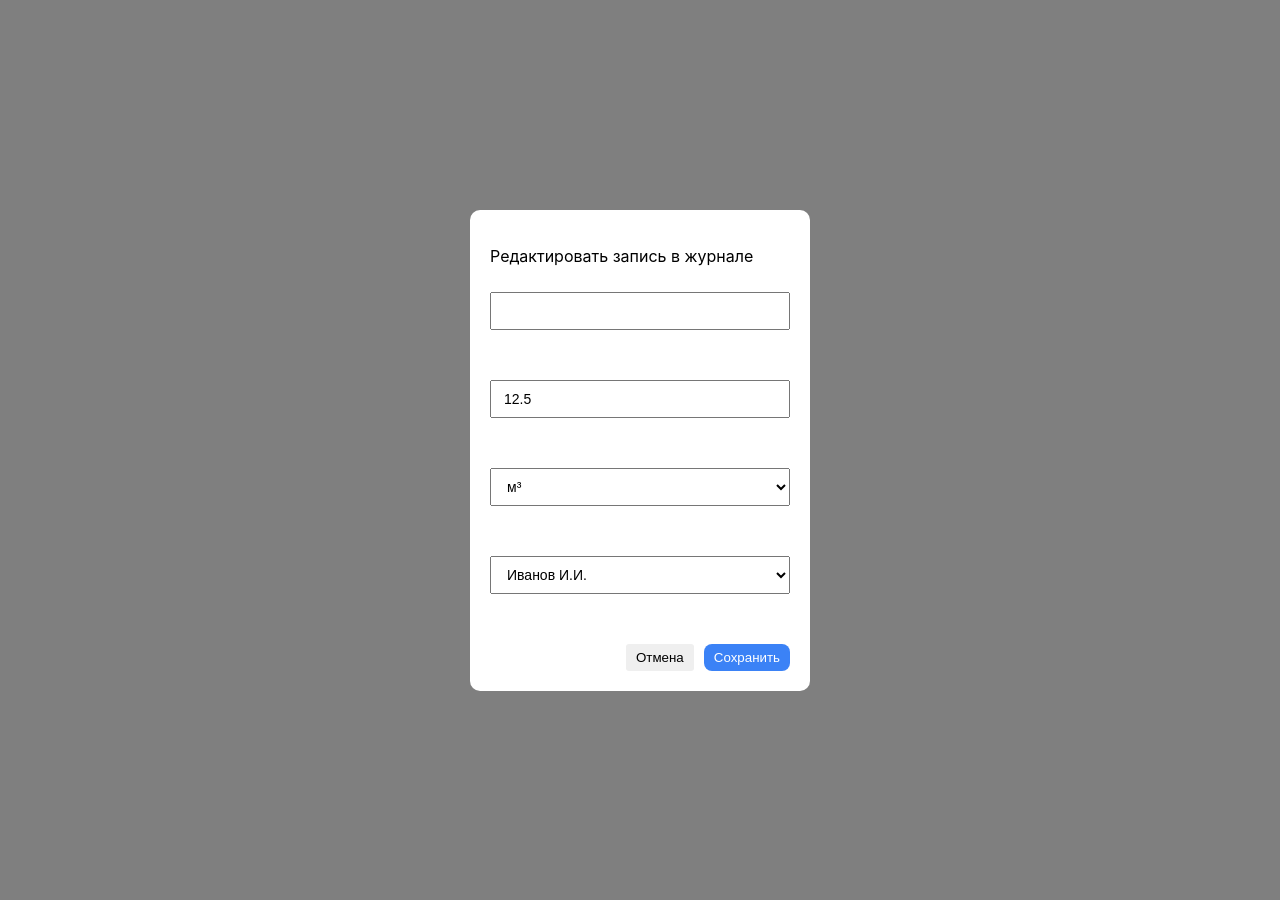
Test: EditLogModal › shows validation errors for empty fields
Click the button "Сохранить": (747, 657) [704,644,790,670]
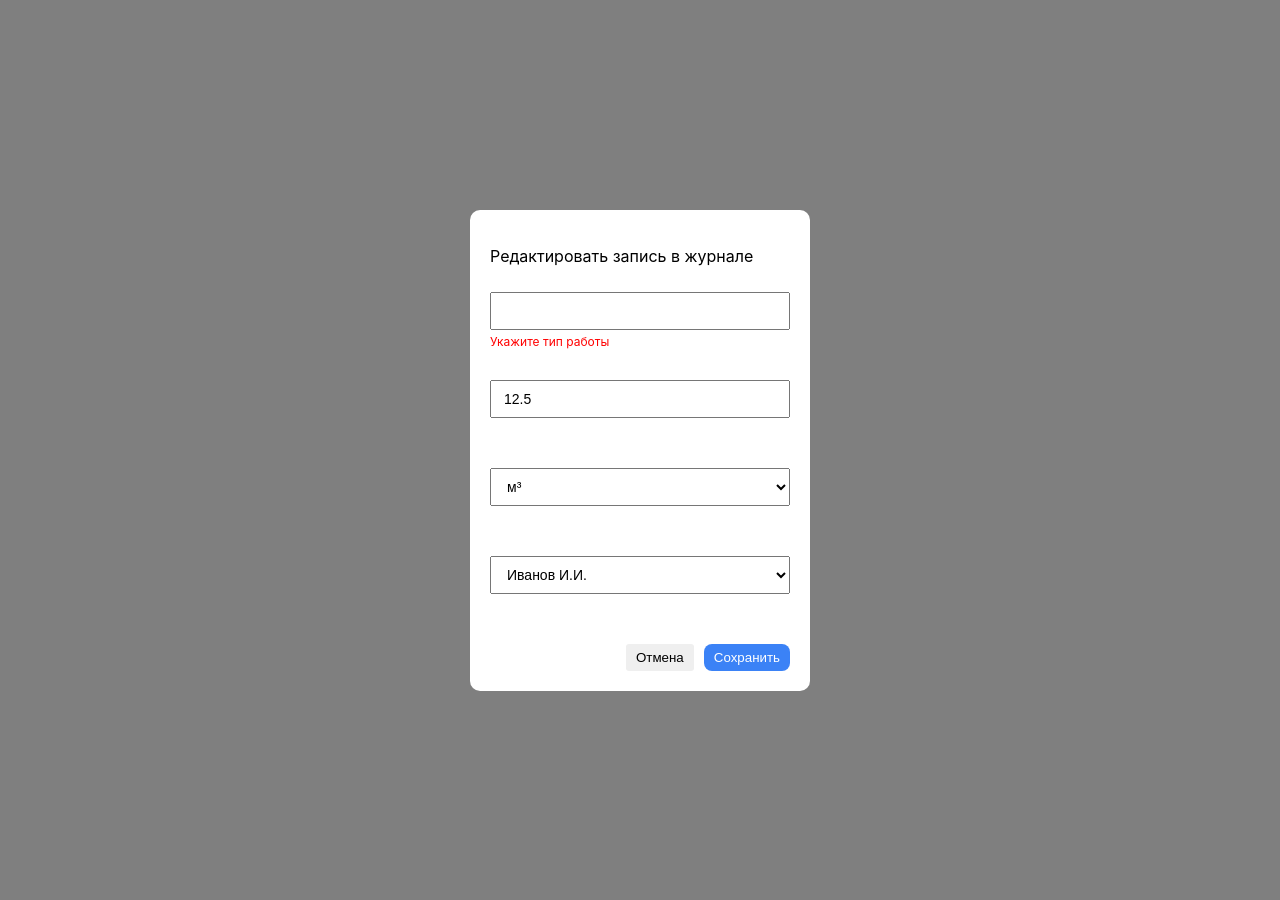
Now the text "Укажите тип работы" is shown, box [490,334,609,348]
